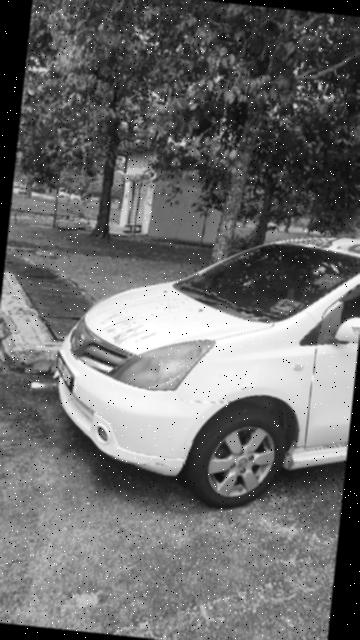License_Plate: (53, 348, 81, 395)
car: (36, 181, 360, 534)
